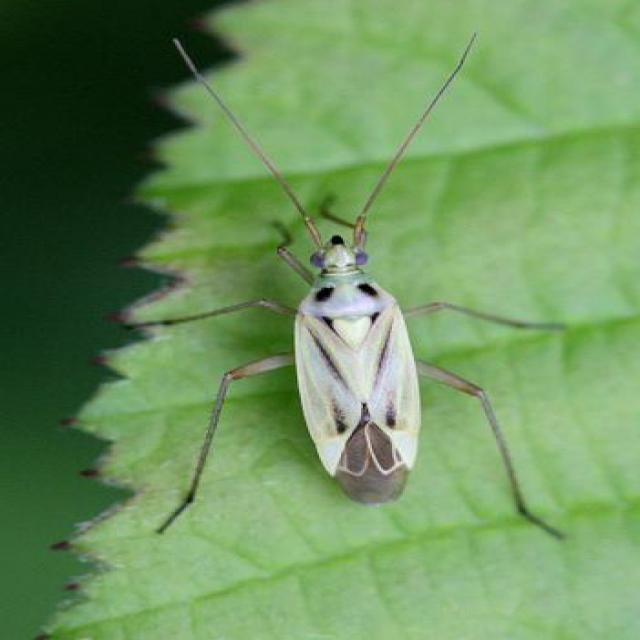Miridae-Adult-: (131, 25, 588, 552)
